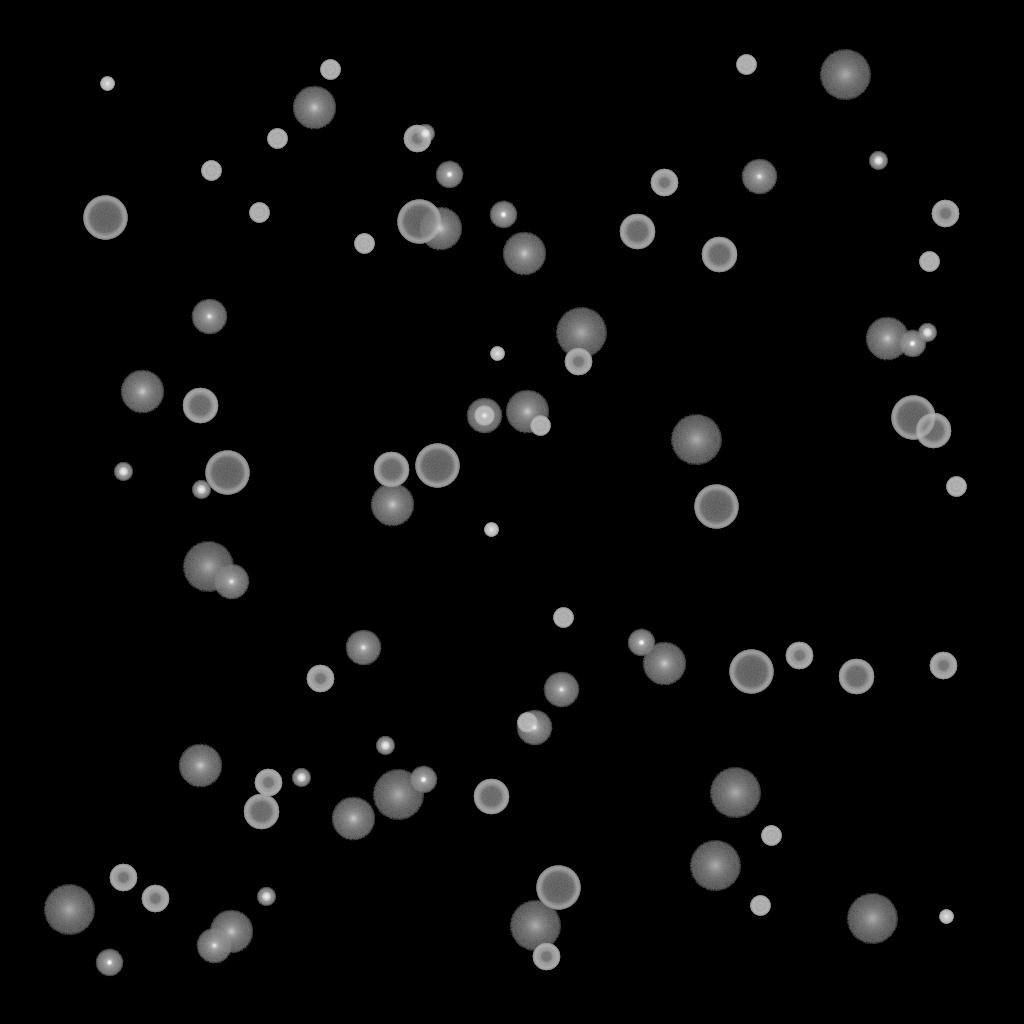depth:-10: (409, 766, 437, 794), (898, 330, 926, 358), (489, 201, 517, 229), (95, 949, 123, 977), (435, 161, 463, 189), (627, 629, 655, 657)
depth:-20: (918, 324, 936, 342), (114, 463, 132, 481), (257, 888, 275, 906), (192, 481, 210, 499), (869, 152, 887, 170), (376, 737, 394, 755), (292, 769, 310, 787), (416, 125, 434, 143)
depth:-30: (939, 910, 953, 924), (100, 77, 114, 91), (490, 347, 504, 361), (484, 523, 498, 537)
depth:-40: (474, 406, 494, 426), (354, 234, 374, 254), (517, 713, 537, 733), (553, 608, 573, 628), (267, 129, 287, 149), (761, 826, 781, 846), (750, 896, 770, 916), (320, 60, 340, 80), (530, 416, 550, 436), (249, 203, 269, 223), (736, 55, 756, 75), (201, 161, 221, 181), (919, 252, 939, 272), (946, 477, 966, 497)
depth:-50: (650, 169, 678, 197), (785, 642, 813, 670), (564, 348, 592, 376), (532, 943, 560, 971), (141, 885, 169, 913), (254, 769, 282, 797), (929, 652, 957, 680), (109, 864, 137, 892), (931, 200, 959, 228), (306, 665, 334, 693), (403, 125, 431, 153)
depth:-60: (838, 659, 874, 695), (915, 413, 951, 449), (182, 388, 218, 424), (473, 779, 509, 815), (619, 214, 655, 250), (373, 452, 409, 488), (701, 237, 737, 273), (243, 794, 279, 830)
depth:-70: (205, 451, 249, 495), (694, 485, 738, 529), (891, 396, 935, 440), (397, 200, 441, 244), (83, 196, 127, 240), (415, 444, 459, 488), (536, 866, 580, 910), (729, 650, 773, 694)
depth:0: (213, 564, 249, 600), (466, 398, 502, 434), (741, 159, 777, 195), (345, 630, 381, 666), (543, 672, 579, 708), (516, 710, 552, 746), (191, 299, 227, 335), (196, 928, 232, 964)
depth:10: (418, 207, 462, 251), (642, 642, 686, 686), (120, 370, 164, 414), (505, 390, 549, 434), (209, 910, 253, 954), (865, 317, 909, 361), (502, 232, 546, 276), (370, 483, 414, 527), (178, 744, 222, 788), (331, 797, 375, 841), (292, 86, 336, 130)
depth:20: (709, 768, 761, 818), (689, 841, 741, 891), (555, 308, 607, 358), (182, 542, 234, 592), (819, 50, 871, 100), (372, 770, 424, 820), (846, 894, 898, 944), (43, 885, 95, 935), (509, 901, 561, 951), (670, 415, 722, 465)
